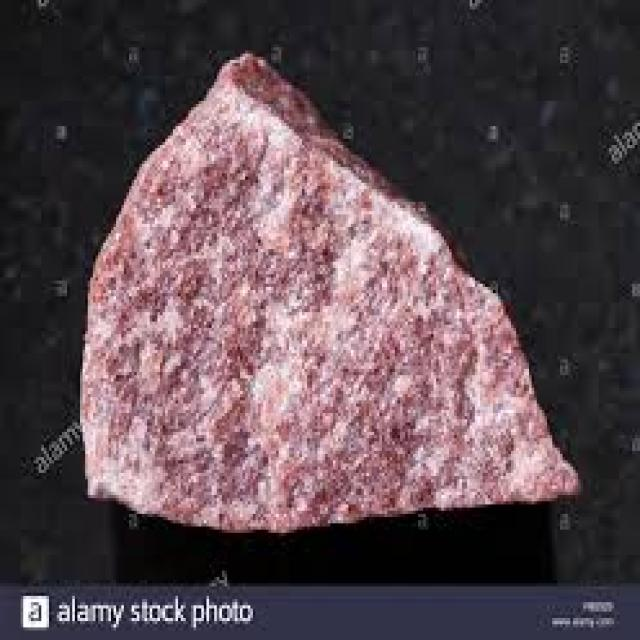Metamorphic: (75, 60, 570, 523)
